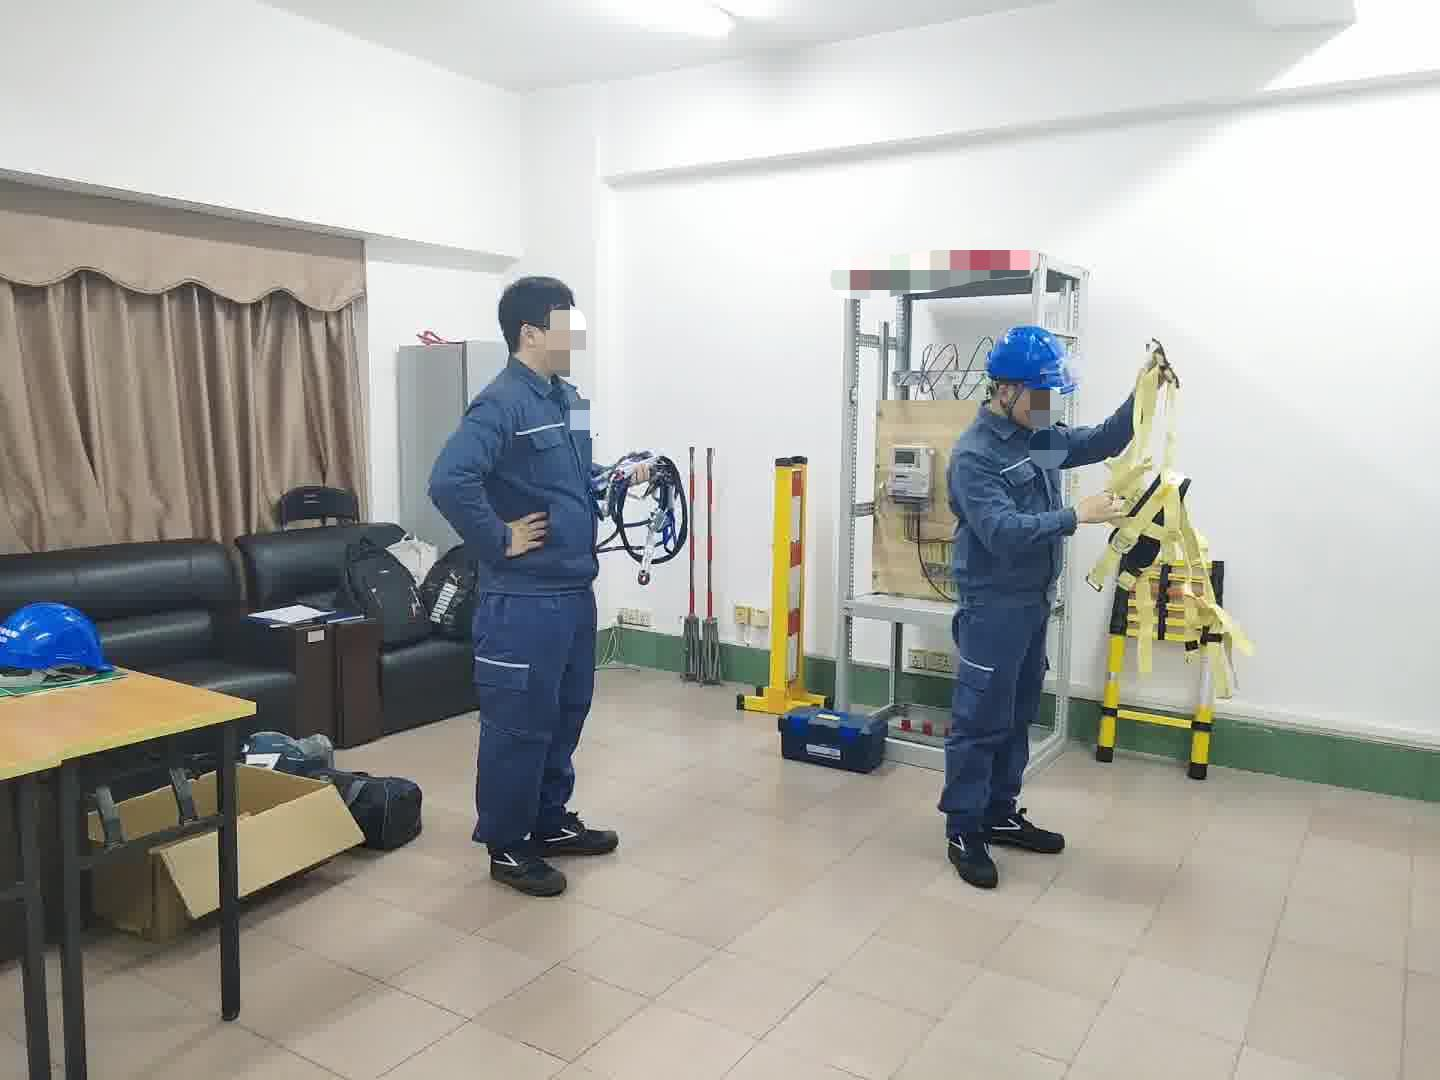halt: (985, 328, 1071, 427)
inear: (990, 379, 1031, 420)
noear: (515, 318, 554, 361)
unhalt: (497, 275, 588, 376)
